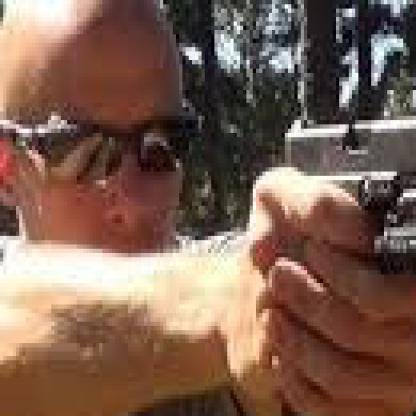gun: (278, 99, 413, 412)
